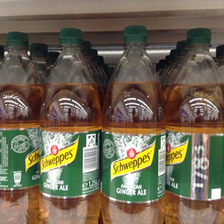soda: (100, 25, 166, 224), (41, 28, 103, 224), (167, 26, 224, 224), (1, 32, 41, 224)
